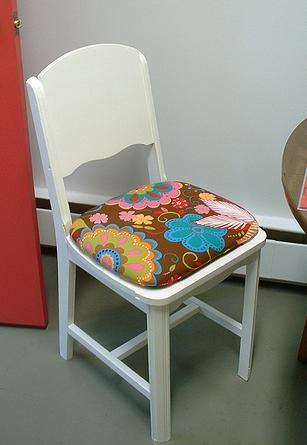obstacle: (26, 44, 265, 441)
